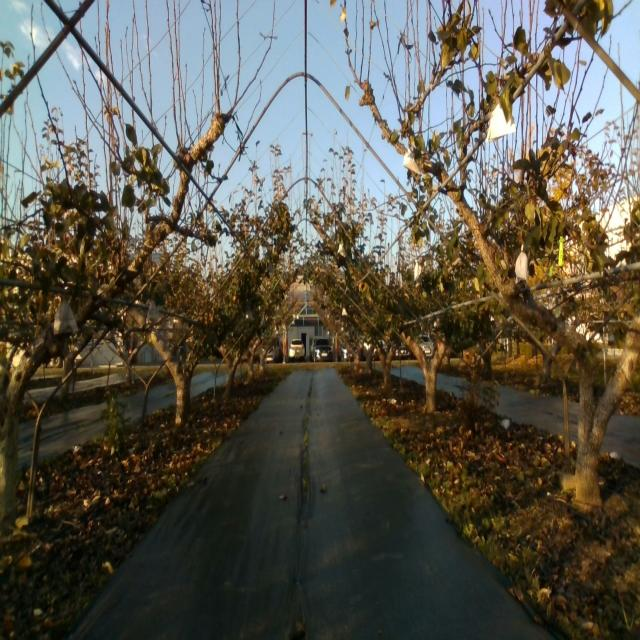pearbags: (487, 102, 518, 143), (54, 300, 79, 334), (515, 244, 529, 284), (403, 149, 419, 174), (147, 302, 159, 323), (414, 260, 424, 283)
